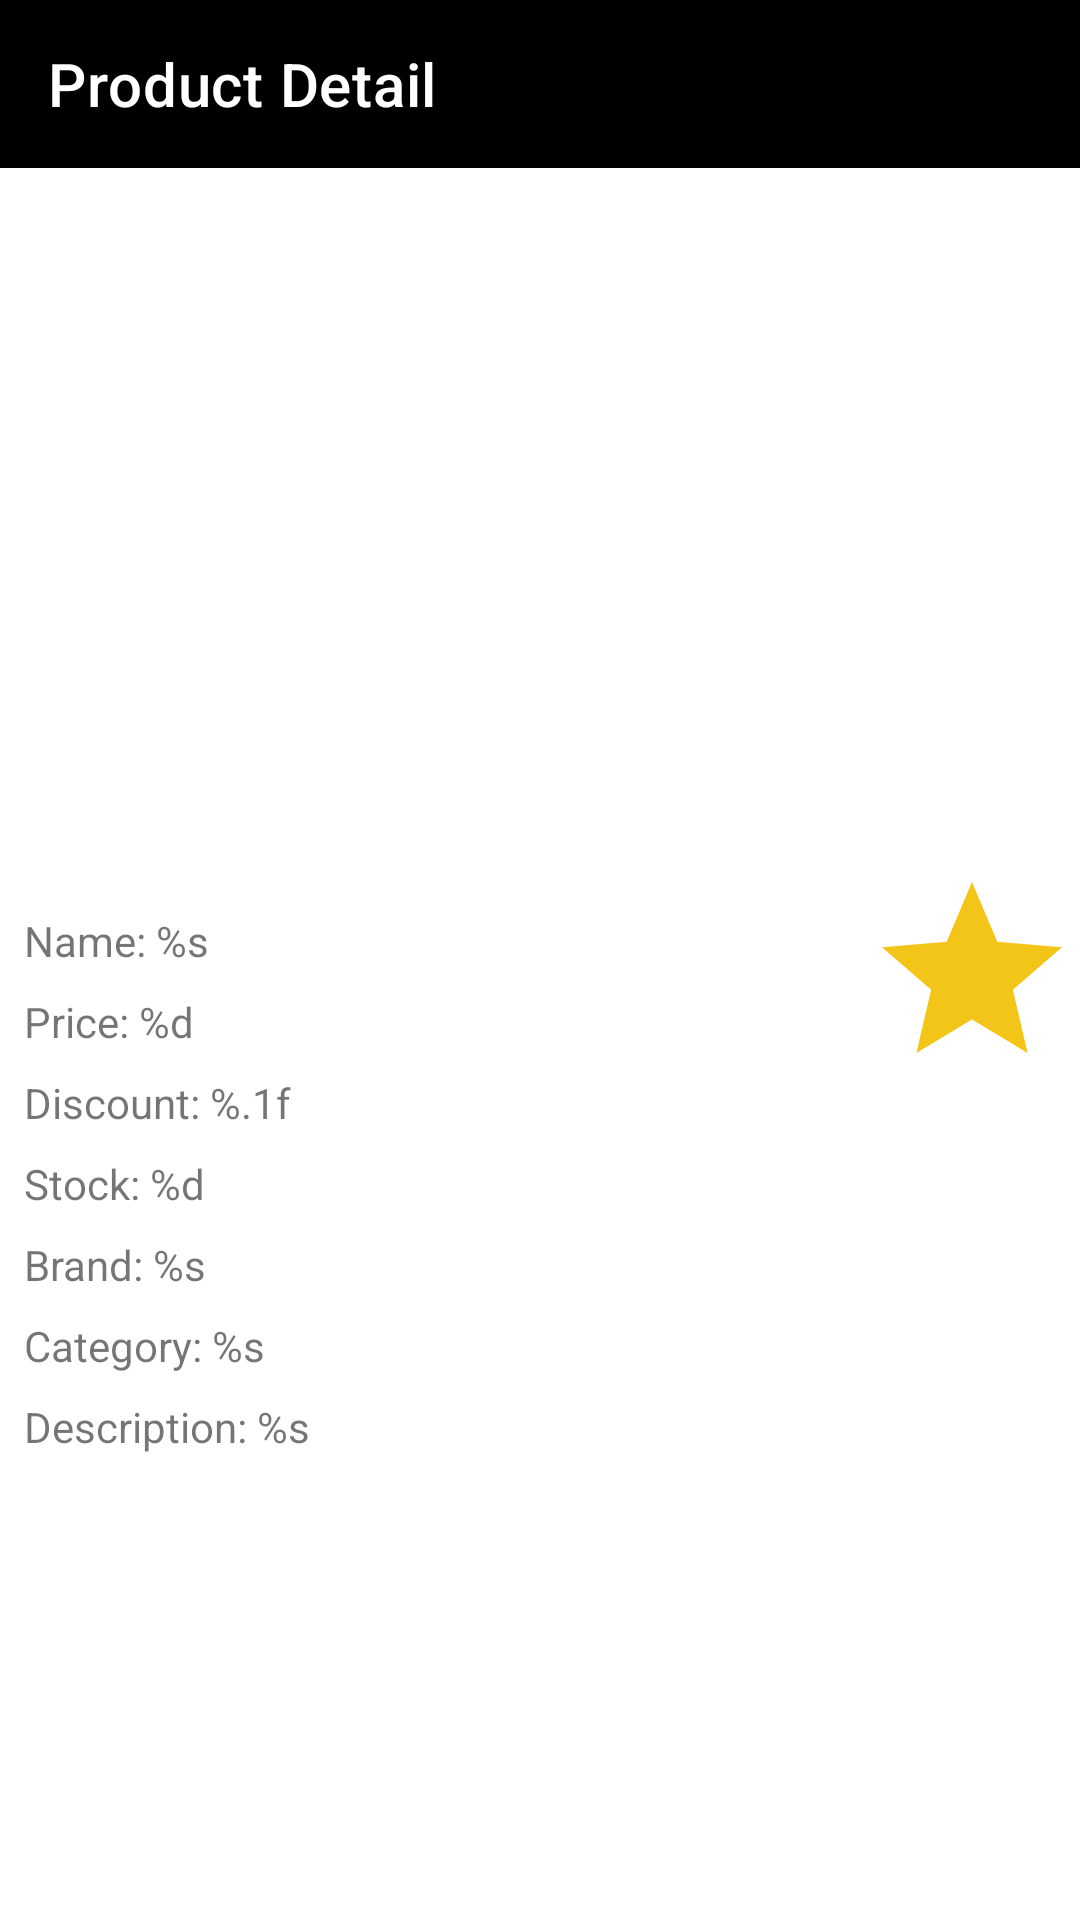

Icon click points for this 1080*1920 phone screenshot, format (x=x, y=y):
star: (x=972, y=967)
